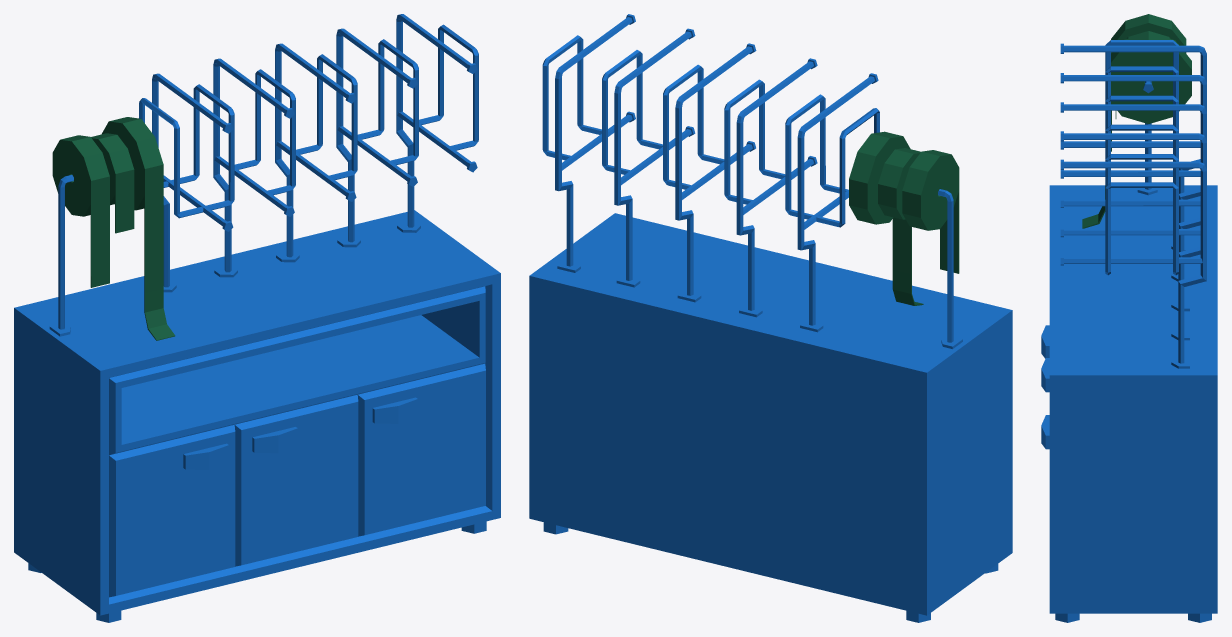
The model's file is T_packing_tape.fbx.
The picture shows the model from 3 angles, left to right: view 1: azimuth 30°, elevation 25°; view 2: azimuth 150°, elevation 25°; view 3: azimuth 270°, elevation 25°; orthographic projection. The views are drawn at different scales.
Parts seen in each view (by area): view 1: packing_tape; view 2: packing_tape; view 3: packing_tape.
Part boxes in pixels (x1,y1,x2,y2): packing_tape: (14, 14, 500, 622); packing_tape: (529, 14, 1012, 622); packing_tape: (1041, 14, 1217, 622).
Size of the model in its own units: 153 by 167 by 58.83.
